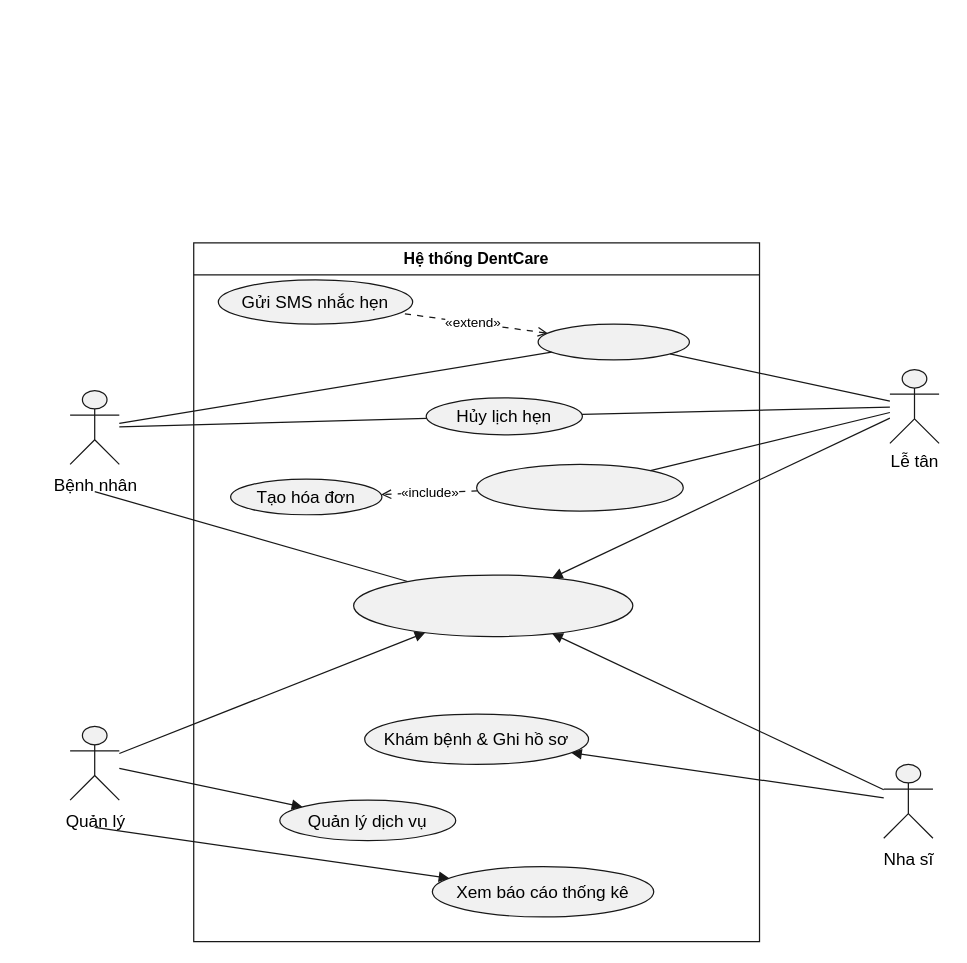
This 967x963 diagram has some shape labels left out. The centre of each missing label's shape, as x and y in pixels:
"Thanh toán viện phí" belongs at (x=579, y=487).
"Tra cứu/Xem hồ sơ bệnh nhân" belongs at (x=492, y=605).
"Đặt lịch hẹn" belongs at (x=613, y=341).
